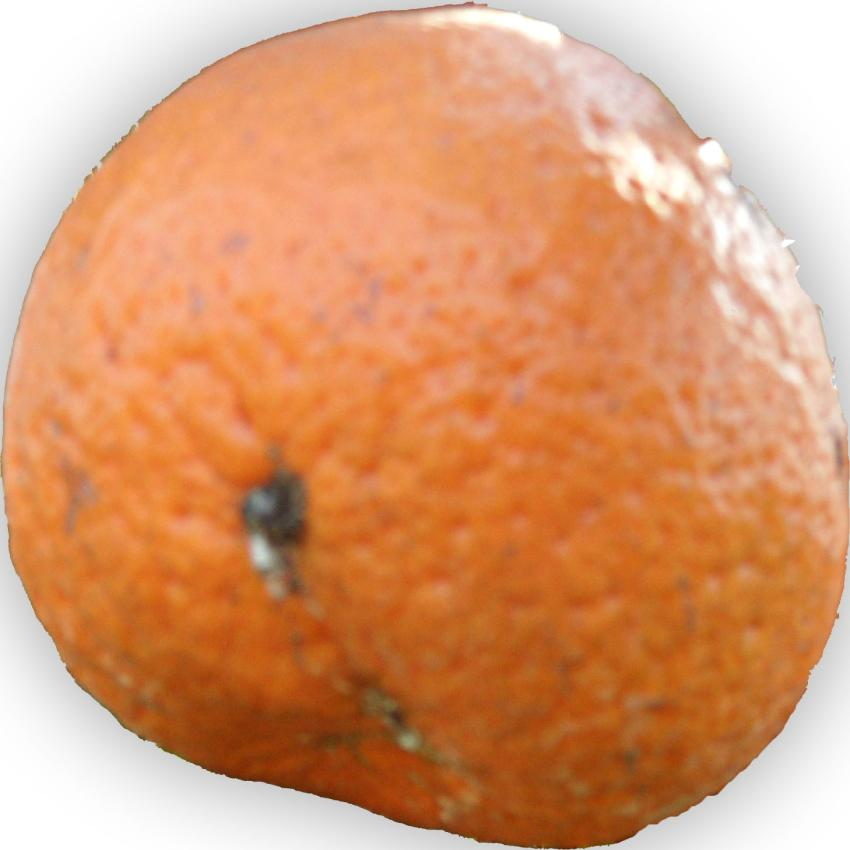Mal estado: (0, 0, 843, 835)
